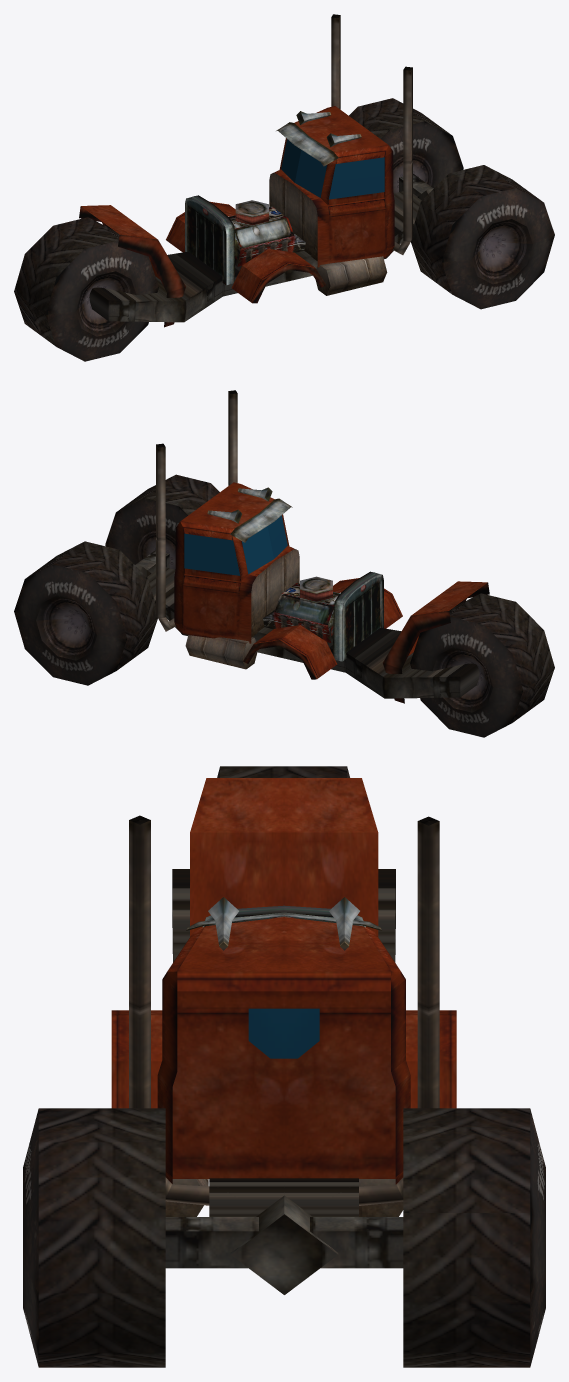
File: 3wheeler.obj
The picture shows the model from 3 angles, top to bottom: view 1: azimuth 30°, elevation 25°; view 2: azimuth 150°, elevation 25°; view 3: azimuth 270°, elevation 25°; orthographic projection. The views are drawn at different scales.
Parts seen in each view (by area): view 1: Plane.001, Plane.003, Plane.005, Plane.008, Plane.007, Plane.014, Plane.018, Plane.006, Plane.011, Plane.009, Plane.012; view 2: Plane.001, Plane.007, Plane.005, Plane.008, Plane.003, Plane.014, Plane.018, Plane.012, Plane.010, Plane.009, Plane.011; view 3: Plane.001, Plane.003, Plane.007, Plane.013, Plane.012, Plane.011, Plane.005, Plane.014, Plane.010, Plane.006.
Part boxes in pixels (bbox=[...]): Plane.001: bbox=[79, 106, 421, 327]; Plane.003: bbox=[411, 165, 554, 309]; Plane.005: bbox=[14, 217, 158, 361]; Plane.008: bbox=[327, 157, 385, 259]; Plane.007: bbox=[349, 98, 463, 193]; Plane.014: bbox=[185, 195, 234, 285]; Plane.018: bbox=[229, 200, 305, 266]; Plane.006: bbox=[315, 256, 387, 295]; Plane.011: bbox=[393, 66, 412, 254]; Plane.009: bbox=[281, 139, 326, 197]; Plane.012: bbox=[331, 14, 340, 109]; Plane.001: bbox=[147, 482, 489, 703]; Plane.007: bbox=[14, 541, 157, 685]; Plane.005: bbox=[410, 593, 554, 737]; Plane.008: bbox=[183, 533, 241, 635]; Plane.003: bbox=[105, 474, 219, 569]; Plane.014: bbox=[333, 571, 383, 661]; Plane.018: bbox=[263, 576, 339, 642]; Plane.012: bbox=[156, 443, 175, 631]; Plane.010: bbox=[185, 635, 257, 669]; Plane.009: bbox=[242, 515, 287, 574]; Plane.011: bbox=[228, 390, 237, 485]; Plane.001: bbox=[111, 778, 456, 1216]; Plane.003: bbox=[23, 1108, 165, 1367]; Plane.007: bbox=[403, 1108, 545, 1367]; Plane.013: bbox=[165, 1195, 403, 1294]; Plane.012: bbox=[359, 816, 439, 1205]; Plane.011: bbox=[129, 815, 209, 1205]; Plane.005: bbox=[217, 766, 349, 777]; Plane.014: bbox=[202, 905, 365, 927]; Plane.010: bbox=[359, 1179, 403, 1216]; Plane.006: bbox=[165, 1179, 208, 1216].
Bounding box in the file's own units: 8.78 × 4.23 × 4.29.
